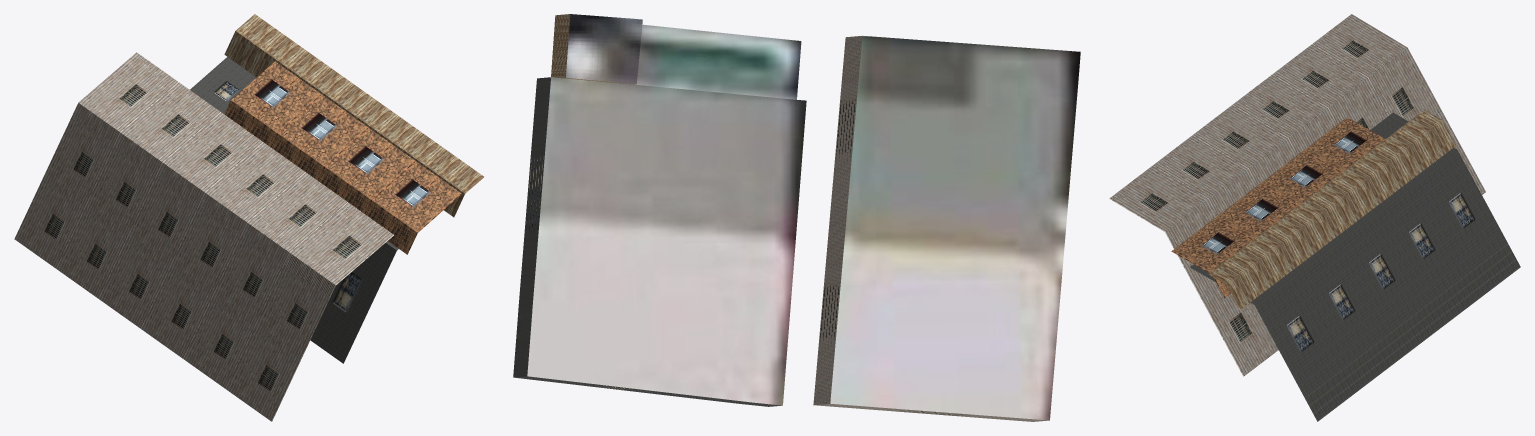
The picture shows the model from 3 angles, left to right: view 1: azimuth 30°, elevation 25°; view 2: azimuth 150°, elevation 25°; view 3: azimuth 270°, elevation 25°; orthographic projection. The views are drawn at different scales.
Bounding box in the file's own units: 24.23 × 18.51 × 24.2.
8 materials, 8 textured.
